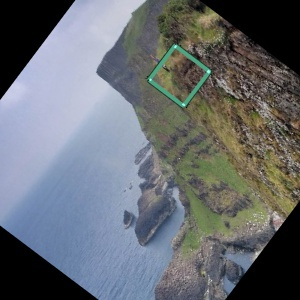square: (144, 41, 214, 111)
